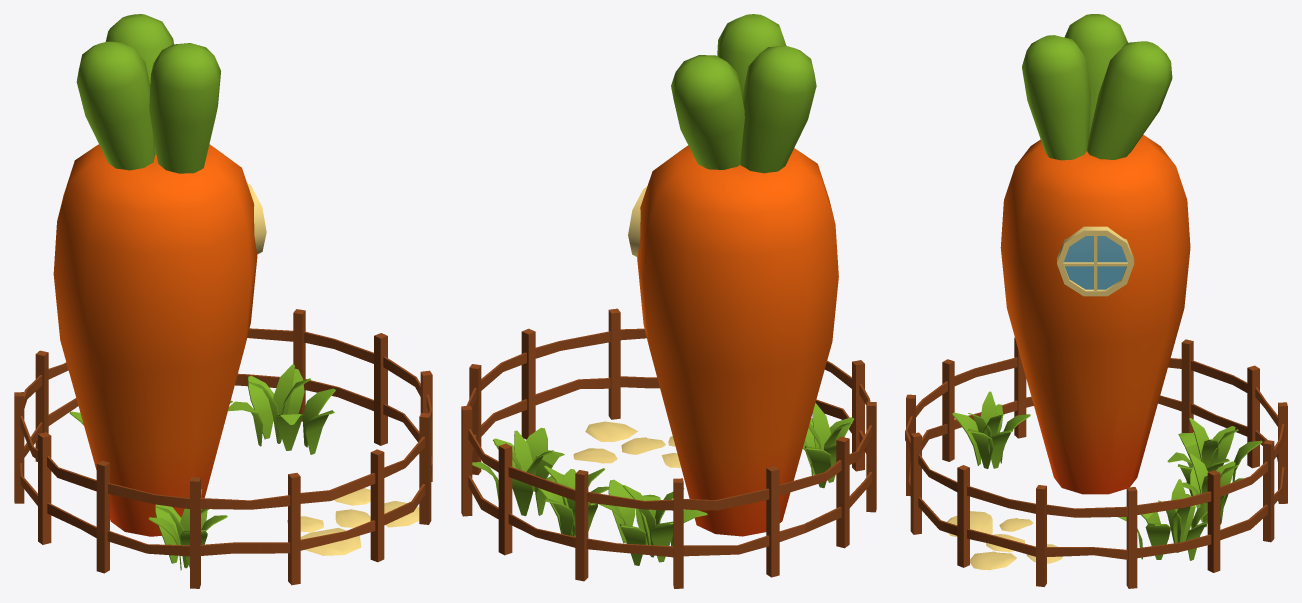
The model's file is island9.carrot.fbx.
3 views of the same model, side by side, from view 1: azimuth 30°, elevation 25°; view 2: azimuth 150°, elevation 25°; view 3: azimuth 270°, elevation 25° (orthographic). The views are drawn at different scales.
Parts seen in each view (by area): view 1: island9-carrot; view 2: island9-carrot; view 3: island9-carrot.
Boxes of the visible parts, x1,y1,x2,y2 form: island9-carrot: (14, 14, 432, 588); island9-carrot: (461, 14, 876, 588); island9-carrot: (905, 14, 1287, 588).
Bounding box in the file's own units: 6.43 × 8.26 × 6.44.
1 material, 1 textured.
